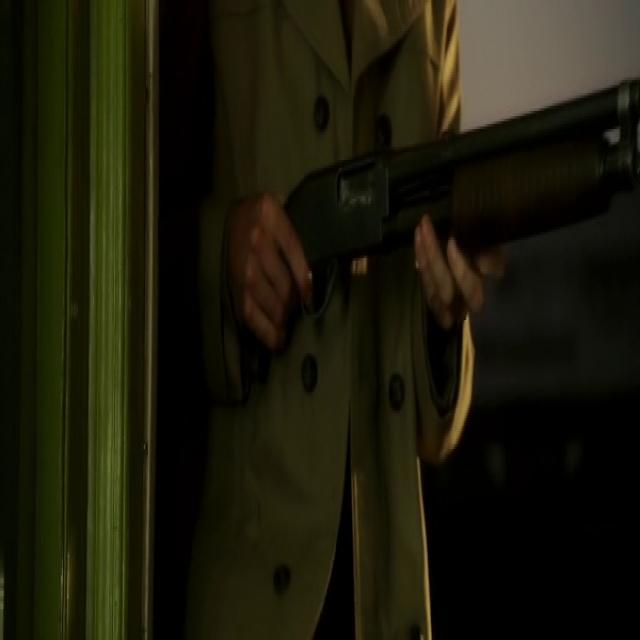rifle: (276, 67, 640, 352)
